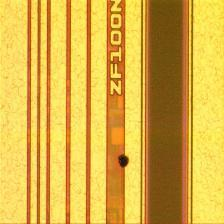PARTICLE: (116, 153, 132, 169)
